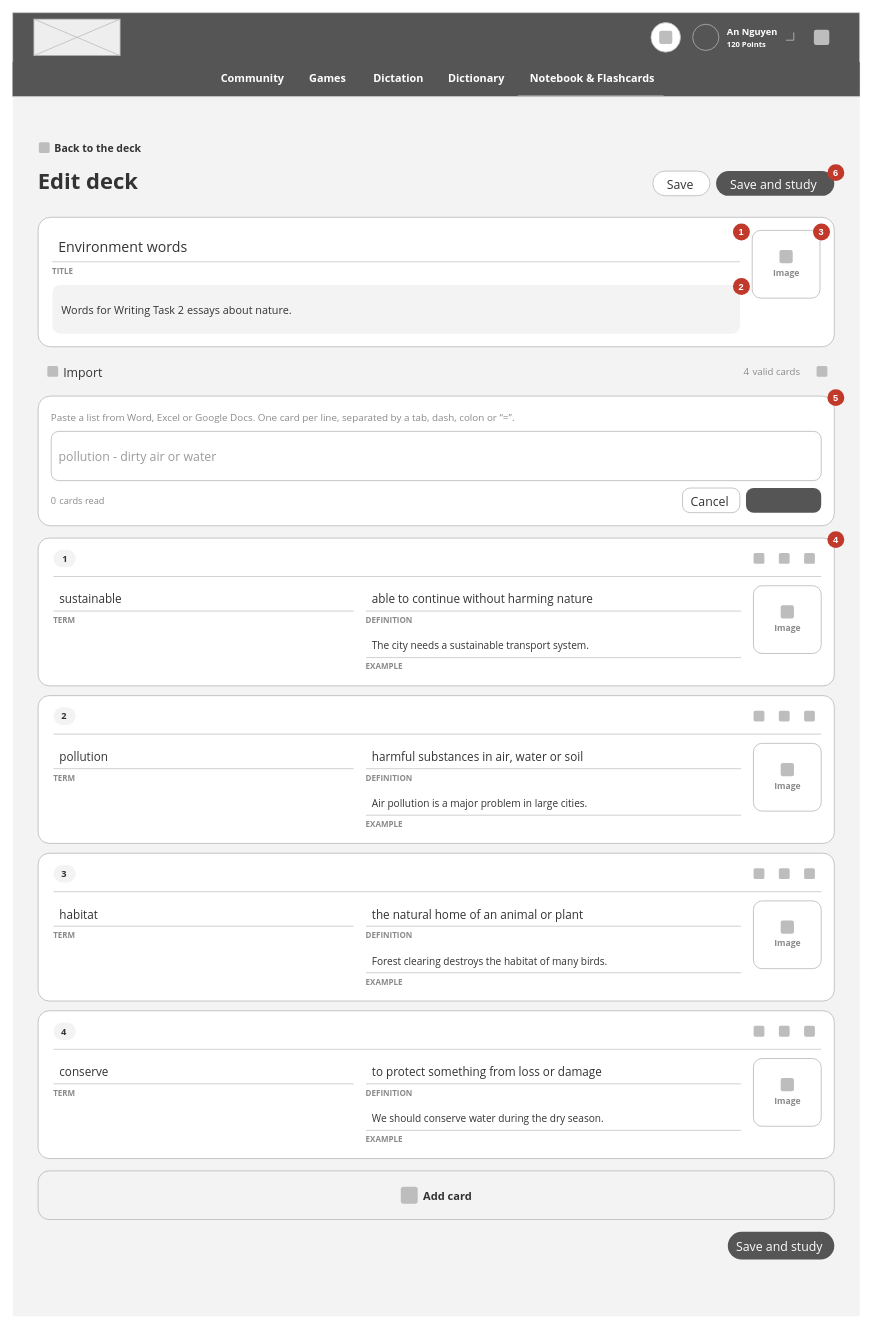
Image size: 872x1329. Some labels were removed from this diagram. Each missing label, with the centre of its shape:
"Add to list" belongs at (x=783, y=500).
"AN" belongs at (x=705, y=36).
